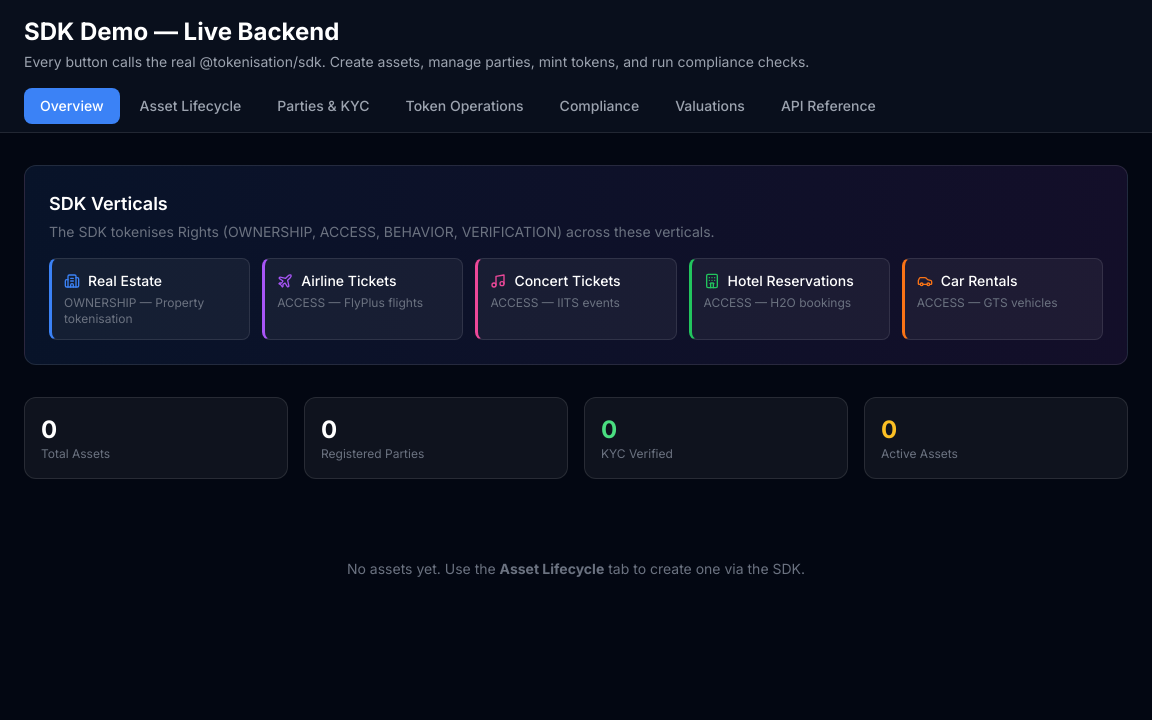
Test: Smoke Tests — UIKitDemo Page › should switch to Asset Lifecycle tab
Click the button "Asset Lifecycle" at (190, 106), box [124, 88, 257, 124]
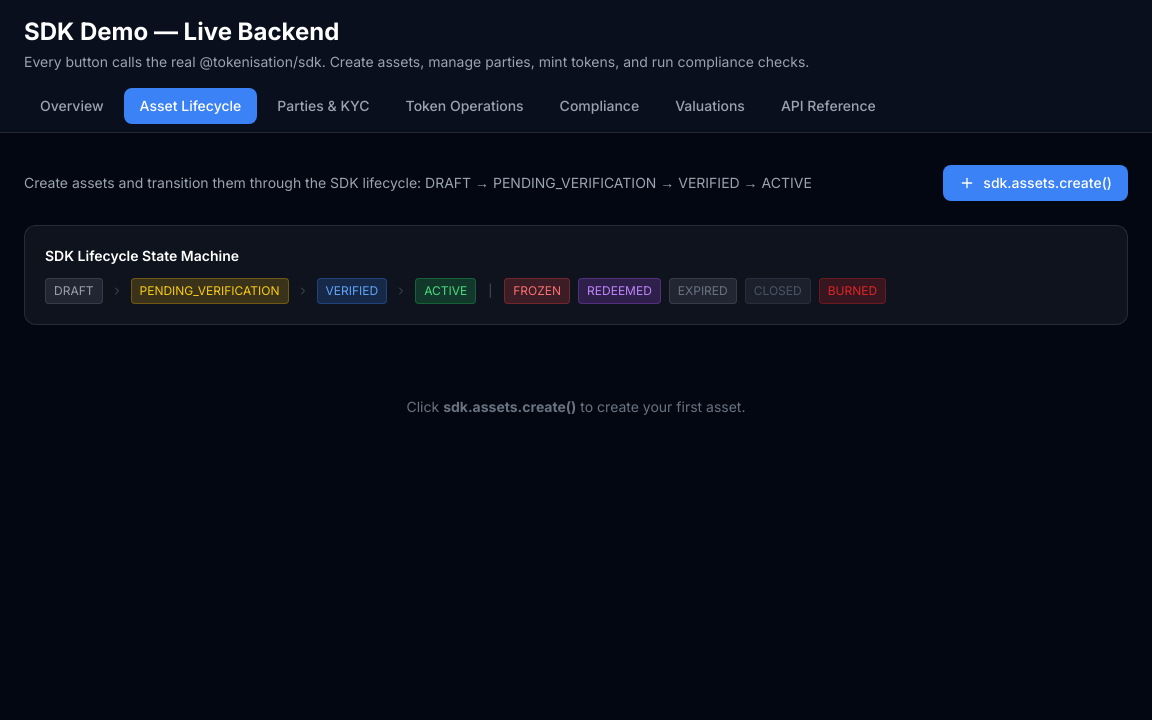
Check: the button "sdk.assets.create()" is shown, box [943, 165, 1128, 201]
